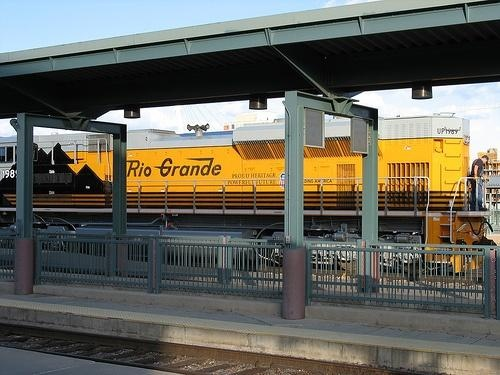train: (2, 114, 497, 276)
